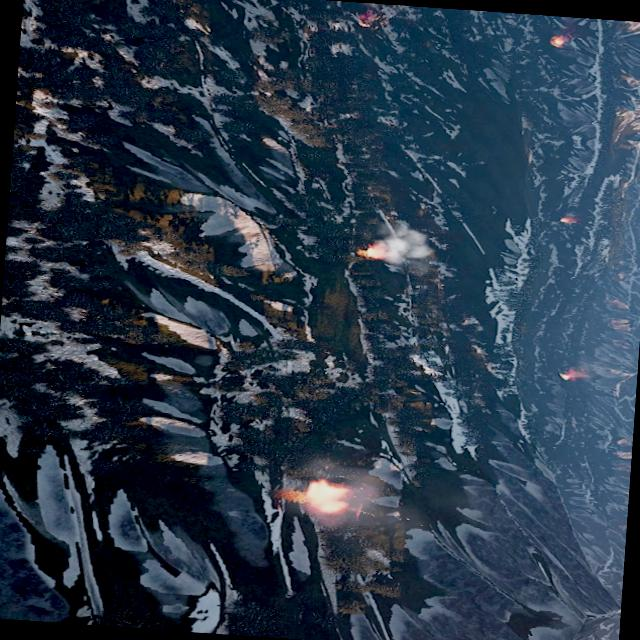fire: (300, 479, 350, 514), (357, 244, 382, 260), (354, 12, 378, 28), (548, 36, 564, 48), (558, 370, 577, 380), (559, 218, 574, 225)
smoke: (292, 457, 396, 534), (376, 216, 439, 272), (571, 360, 616, 382)
